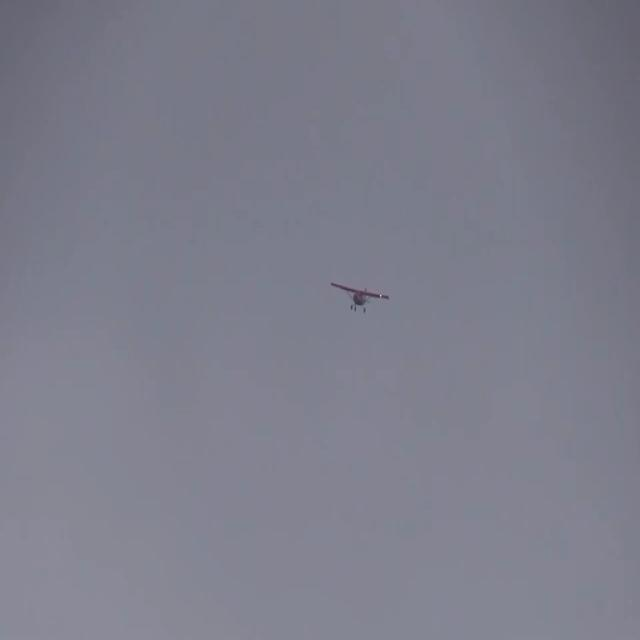AirPlane: (319, 268, 399, 329)
